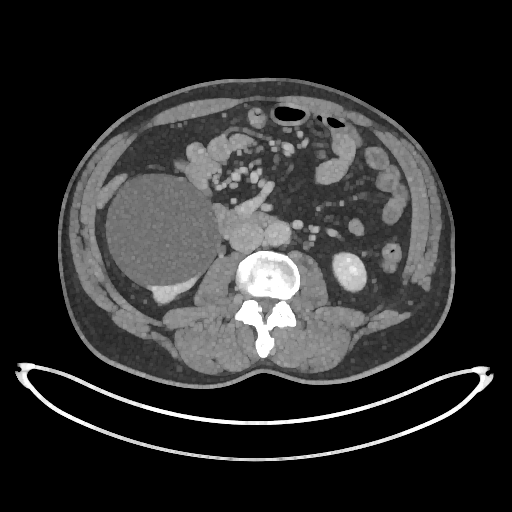Lesion: (105, 173, 217, 288)
